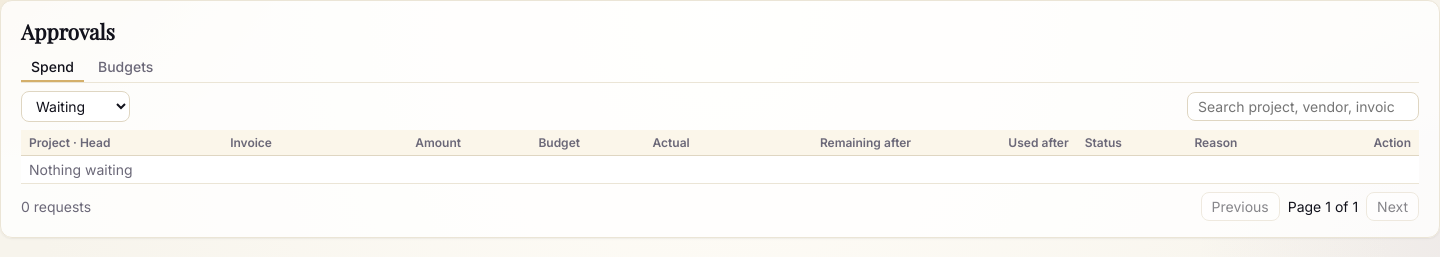
Scenario: Approvals › switches to decided requests, which show the decision instead of buttons
Check: the text "Nothing waiting" is shown, box 21,156 -> 1419,184
Select "Approved" in the dropdown named "Show": point(76, 106) 21,91 -> 130,122
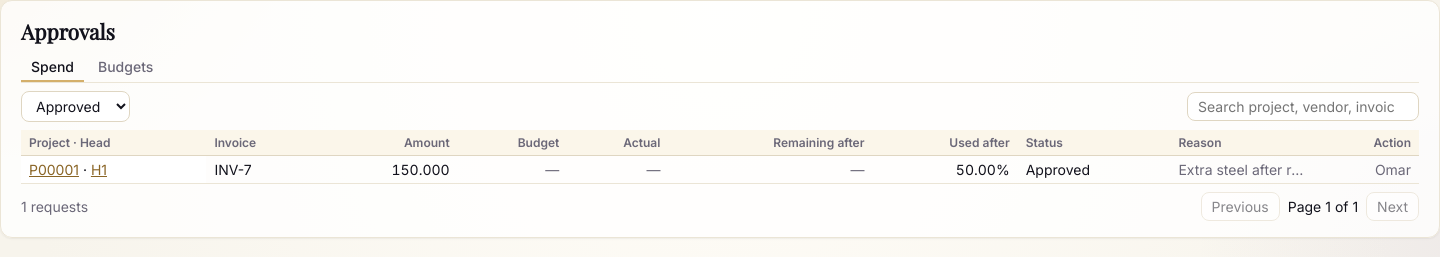
Check: the text "INV-7" shows "50.00%", box 956,161 -> 1010,178
Check: the text "INV-7" shows "Omar", box 1375,161 -> 1411,178
